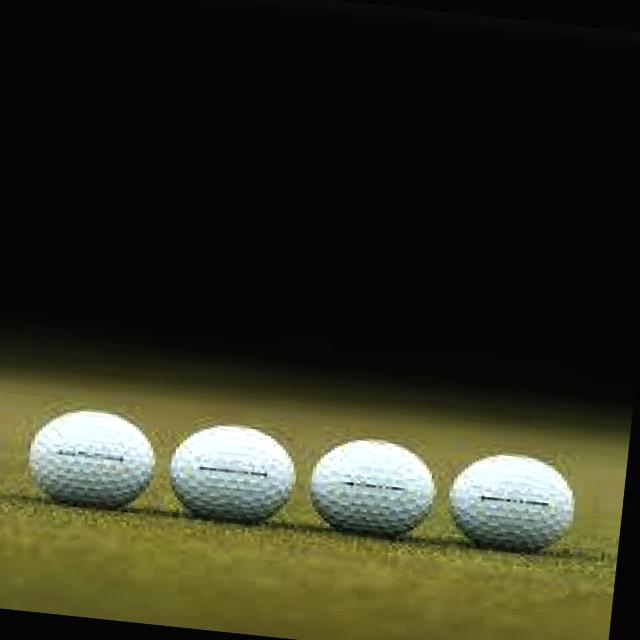ball: (298, 424, 447, 547)
